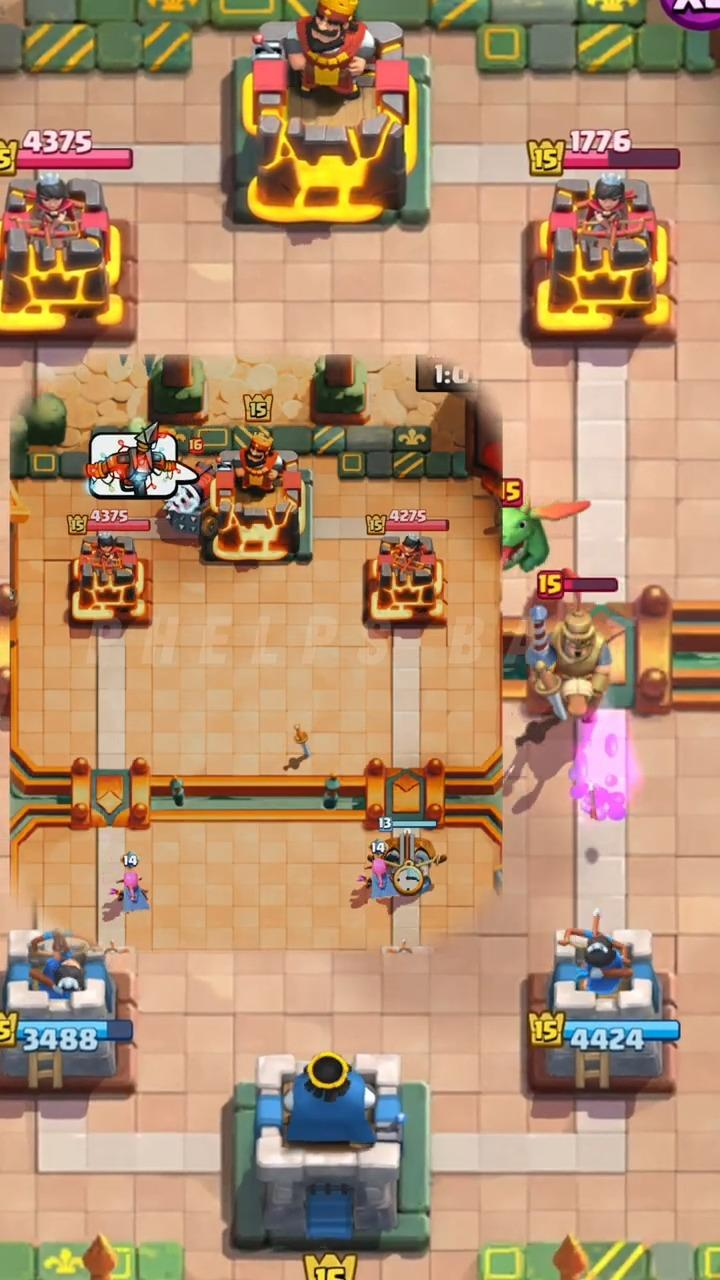archer: (110, 852, 149, 913), (371, 859, 401, 899)
baby dragon: (501, 501, 590, 572)
prince: (527, 597, 611, 722)
sparky: (164, 466, 214, 537)
x-bow: (384, 831, 445, 873)
